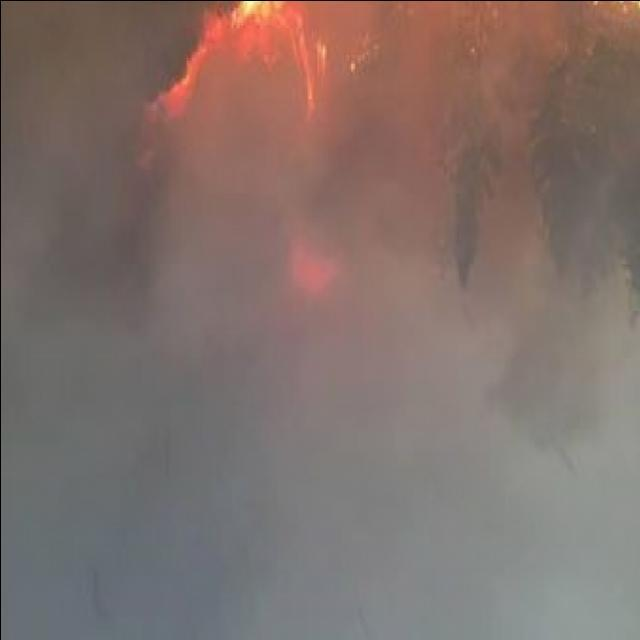Fire: (152, 0, 318, 128)
